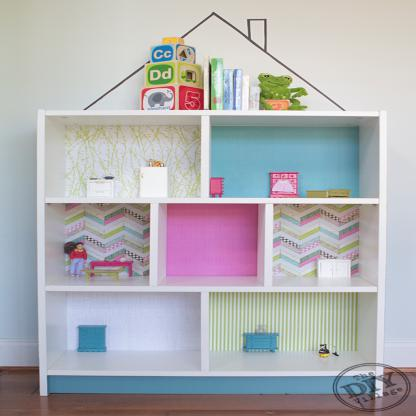lamp: (35, 108, 388, 398)
